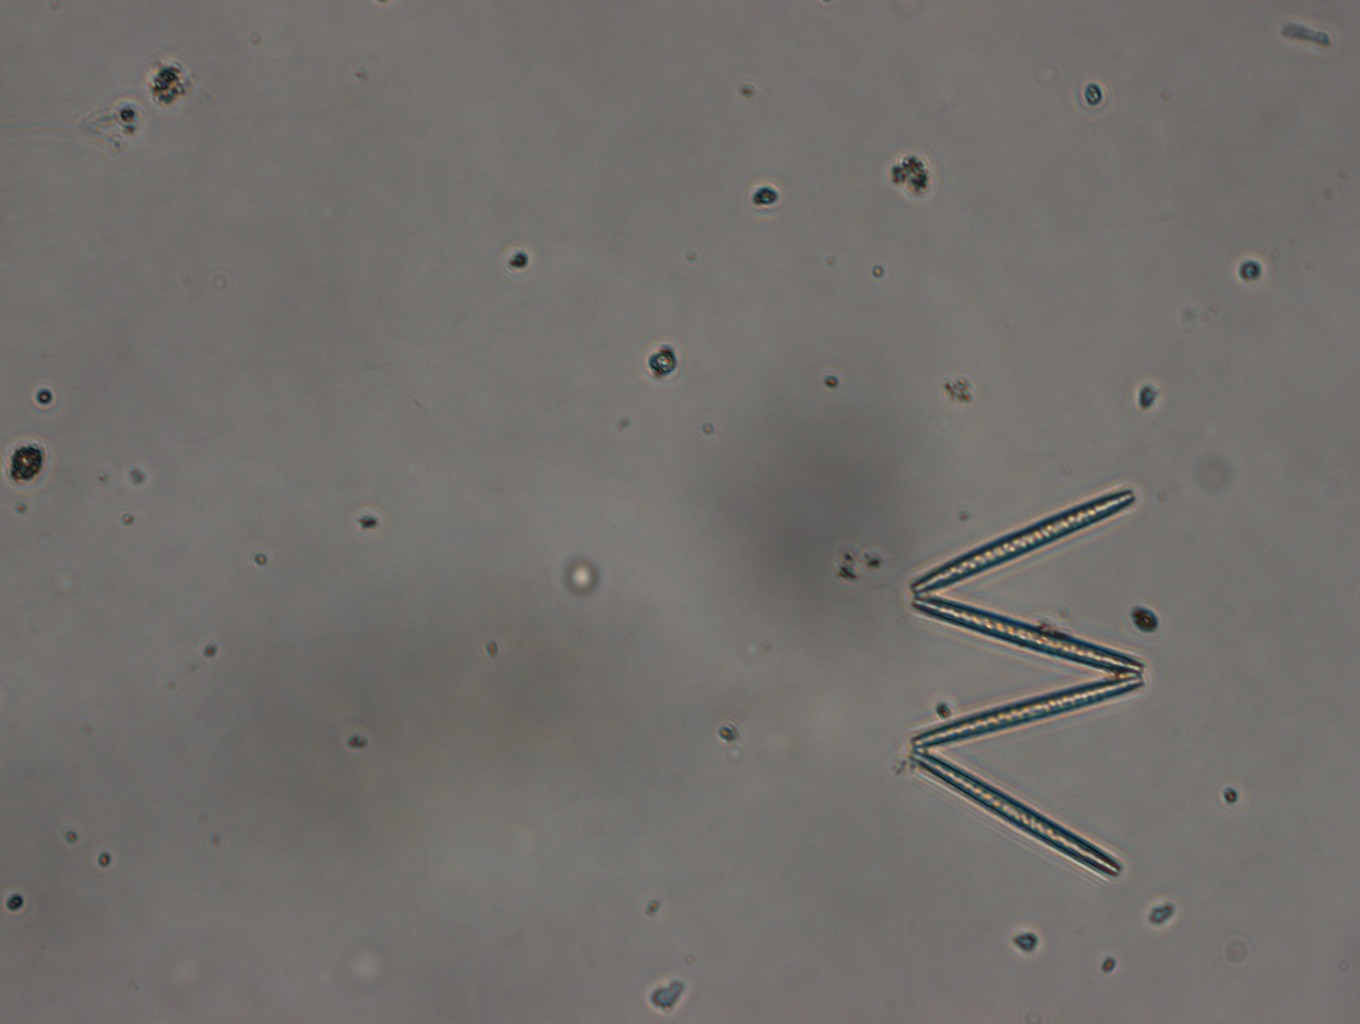thalassionema nitzschioides: (904, 472, 1155, 887)
